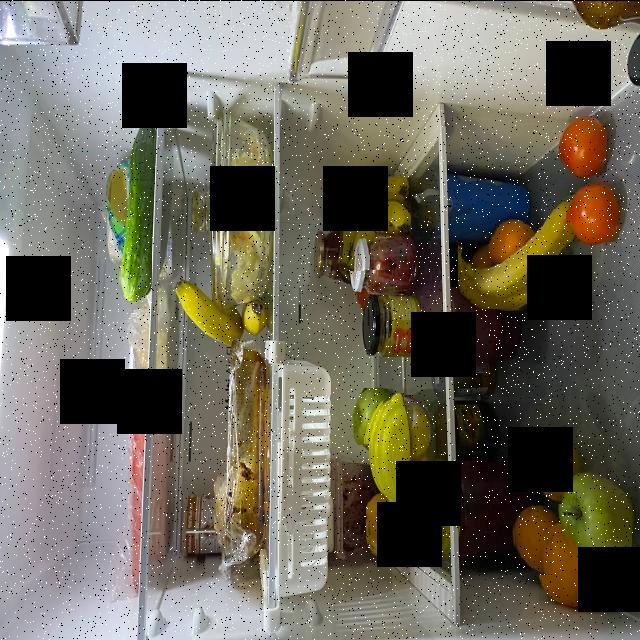Apple: (562, 466, 632, 570), (363, 494, 412, 566), (528, 440, 577, 504), (352, 388, 385, 446)
Banana: (458, 190, 573, 310), (337, 161, 411, 271)
Cucumber: (119, 102, 152, 296)
Orange: (539, 528, 608, 606), (513, 501, 553, 576), (495, 217, 534, 259), (477, 248, 499, 268)
Tomato: (567, 176, 619, 242), (560, 113, 607, 183), (354, 289, 369, 307)
